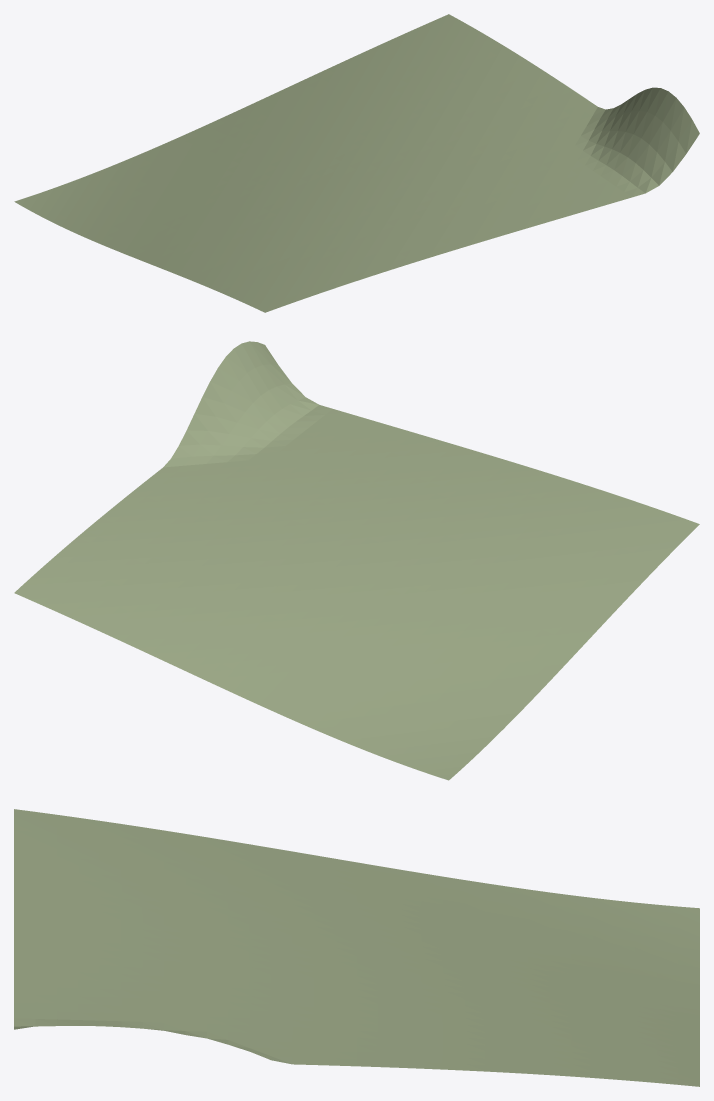
File: expanse-14-19.glb
The picture shows the model from 3 angles, top to bottom: view 1: azimuth 30°, elevation 25°; view 2: azimuth 150°, elevation 25°; view 3: azimuth 270°, elevation 25°; orthographic projection. The views are drawn at different scales.
Visible parts, largest first — view 1: expanse-14-19; view 2: expanse-14-19; view 3: expanse-14-19.
Part boxes in pixels (bbox=[...]): expanse-14-19: bbox=[14, 14, 699, 312]; expanse-14-19: bbox=[14, 341, 699, 780]; expanse-14-19: bbox=[14, 809, 699, 1086].
Bounding box in the file's own units: 256 × 92.84 × 256.
